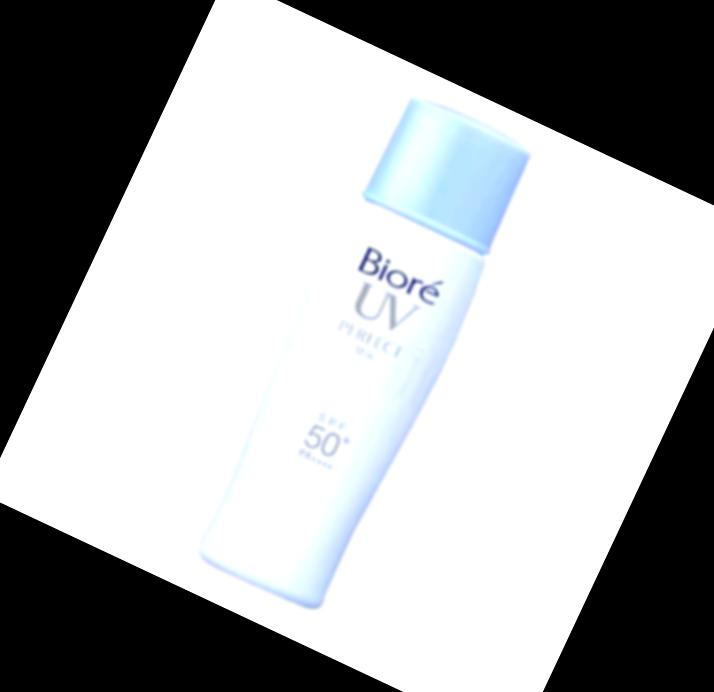cosmetic: (181, 86, 552, 621)
